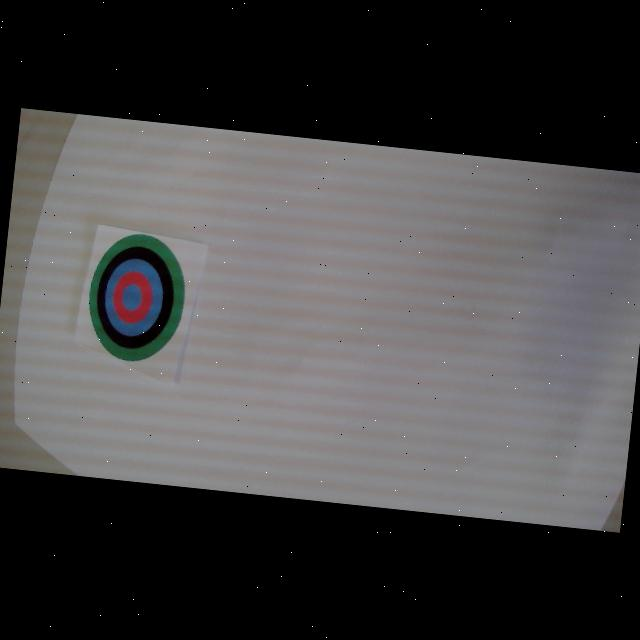COGNITIVE: (82, 228, 191, 367)
